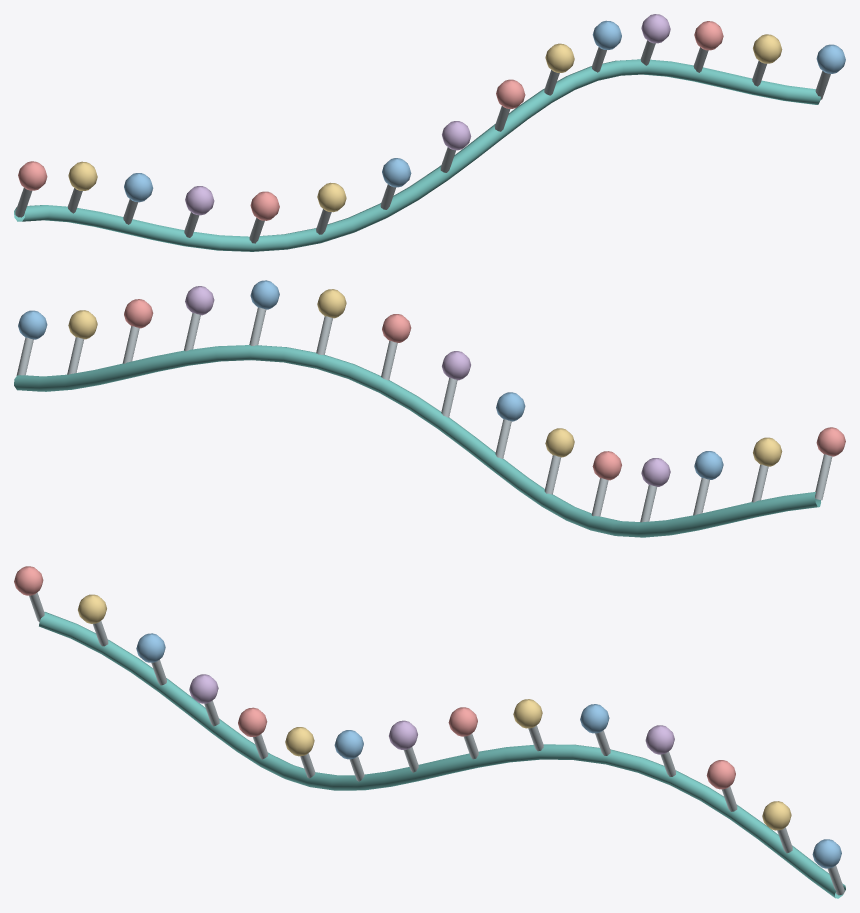
The model's file is mrna-strand.glb.
3 renders of one model, top to bottom at view 1: azimuth 30°, elevation 25°; view 2: azimuth 150°, elevation 25°; view 3: azimuth 330°, elevation 25°, orthographic.
Visible parts, largest first — view 1: single_backbone, base_11, base_0, base_12, base_7, base_2, base_4, base_8, base_9, base_10, base_6, base_13 (+4 smaller); view 2: single_backbone, base_0, base_6, base_9, base_10, base_11, base_13, base_1, base_5, base_7, base_12, base_14 (+4 smaller); view 3: single_backbone, base_0, base_3, base_10, base_2, base_5, base_13, base_9, base_11, base_12, base_4, base_7 (+4 smaller).
Boxes of the visible parts, <box> form: single_backbone: <box>14,59,820,251</box>; base_11: <box>641,14,670,43</box>; base_0: <box>18,161,47,190</box>; base_12: <box>694,21,723,50</box>; base_7: <box>442,121,471,150</box>; base_2: <box>124,173,153,202</box>; base_4: <box>250,191,279,220</box>; base_8: <box>496,79,525,108</box>; base_9: <box>545,43,574,72</box>; base_10: <box>592,20,621,49</box>; base_6: <box>382,158,411,187</box>; base_13: <box>753,34,782,63</box>; single_backbone: <box>14,345,820,537</box>; base_0: <box>816,427,845,456</box>; base_6: <box>496,392,525,421</box>; base_9: <box>317,289,346,318</box>; base_10: <box>250,280,279,309</box>; base_11: <box>185,286,214,315</box>; base_13: <box>68,310,97,339</box>; base_1: <box>753,437,782,466</box>; base_5: <box>545,428,574,457</box>; base_7: <box>442,351,470,380</box>; base_12: <box>124,299,153,328</box>; base_14: <box>18,310,47,339</box>; single_backbone: <box>39,612,845,898</box>; base_0: <box>14,566,43,595</box>; base_3: <box>189,674,218,703</box>; base_10: <box>580,704,609,733</box>; base_2: <box>136,633,165,662</box>; base_5: <box>285,727,314,756</box>; base_13: <box>762,801,791,830</box>; base_9: <box>513,699,542,728</box>; base_11: <box>645,725,674,754</box>; base_12: <box>706,760,735,789</box>; base_4: <box>238,707,267,736</box>; base_7: <box>389,720,417,749</box>.
Bounding box in the file's own units: 2.89 × 0.5257 × 0.3468.
